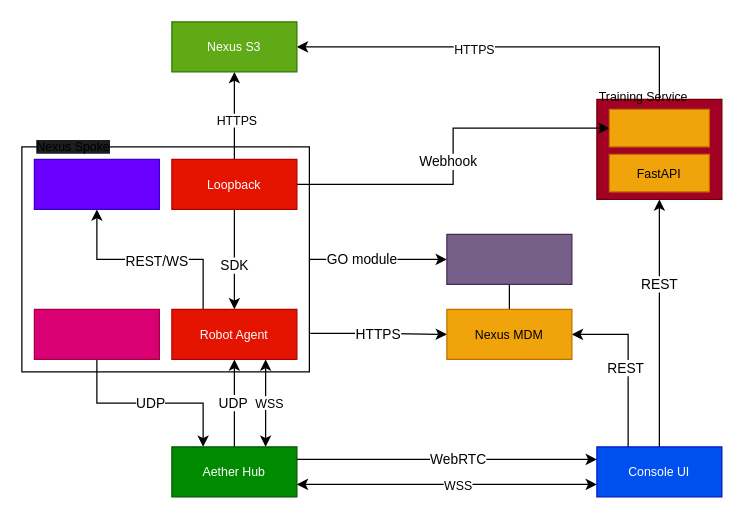
The diagram is 744 pixels wide and 519 high, and some of its shapes have lost their labels. The shapes that lost their labels are listed below. From the top down, each one's centre as x and y in pixels, then its label:
At [658,127]: "GIN".
At [96,183]: "Inference S erver".
At [509,258]: "Nexus P rovision".
At [96,333]: "Camera".
